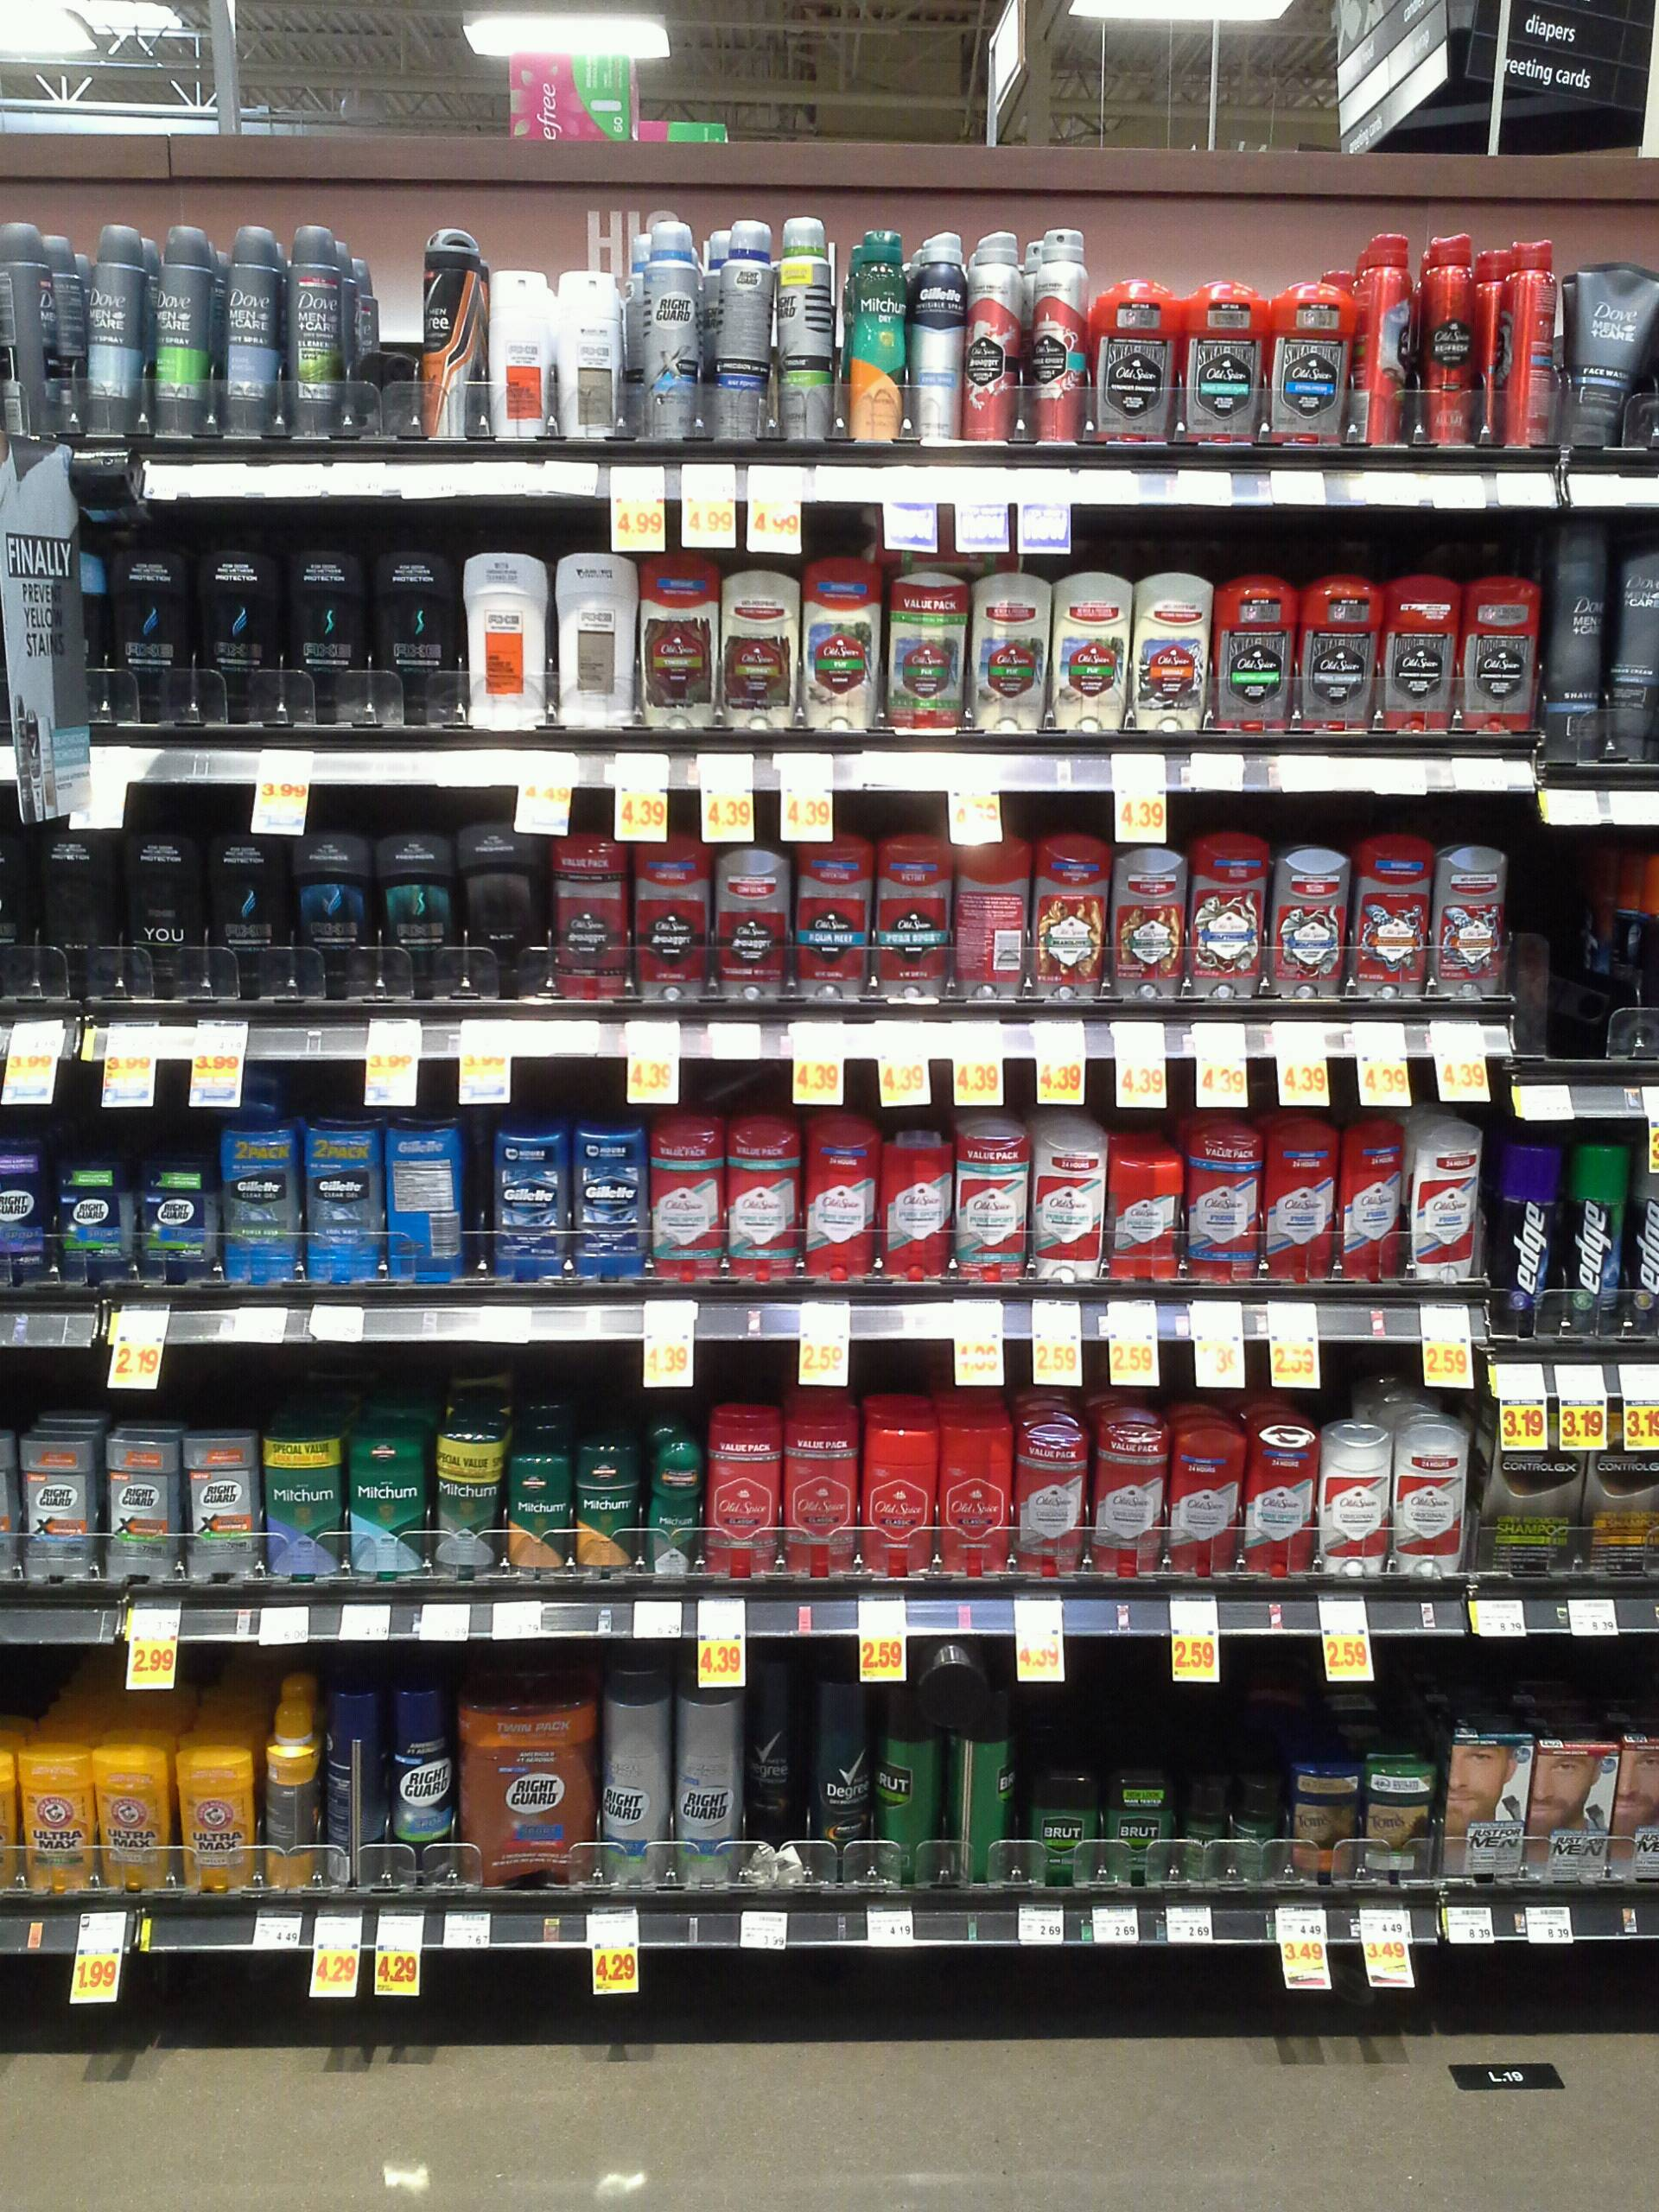Out-of-stock: (1513, 833, 1626, 1068)
